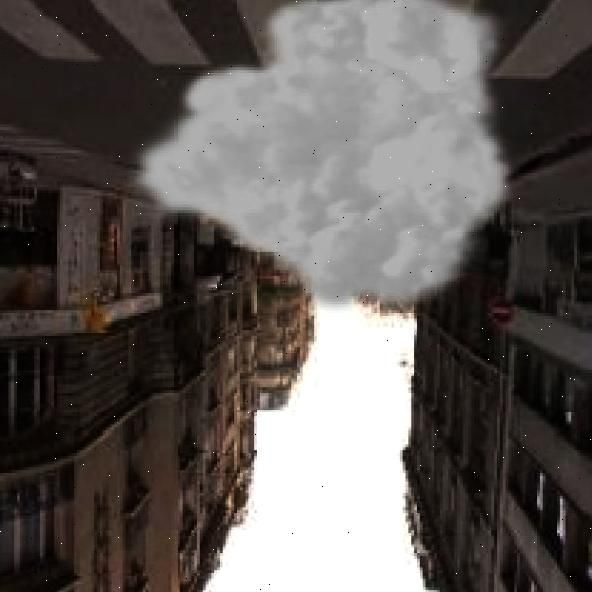smoke: (123, 0, 517, 321)
